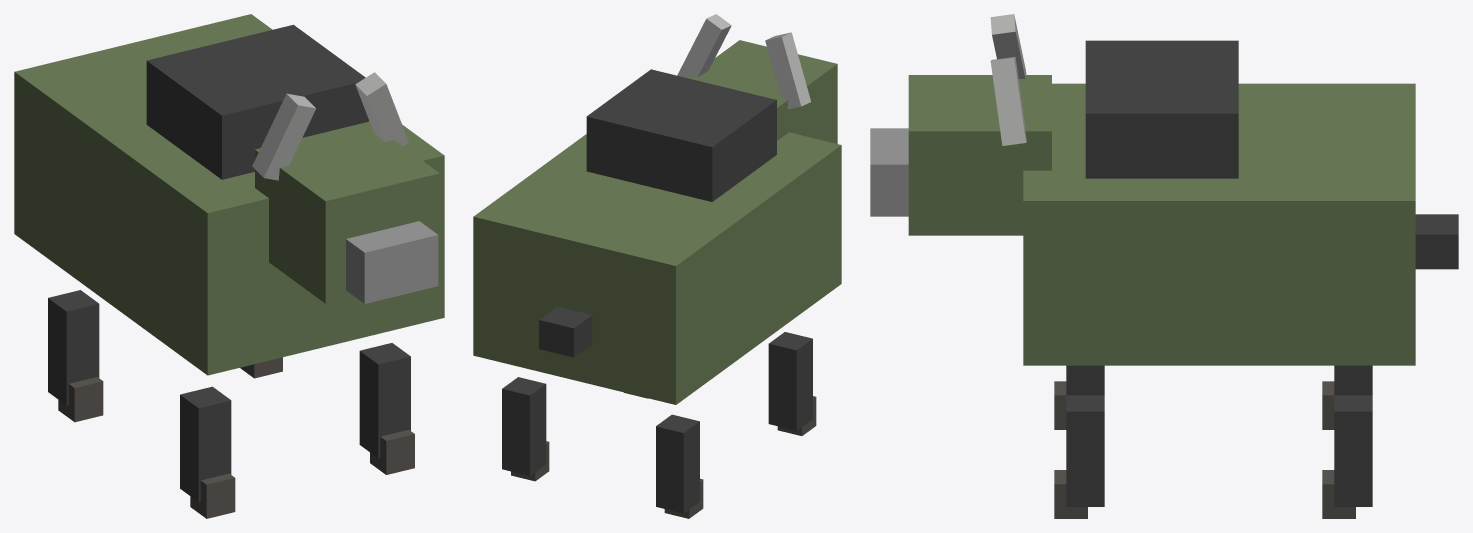
Rendered from ElvinBisonA.glb.
The picture shows the model from 3 angles, left to right: view 1: azimuth 30°, elevation 25°; view 2: azimuth 150°, elevation 25°; view 3: azimuth 270°, elevation 25°; orthographic projection. The views are drawn at different scales.
Parts seen in each view (by area): view 1: ElvinBisonBody; view 2: ElvinBisonBody; view 3: ElvinBisonBody.
Boxes of the visible parts, x1=… form: ElvinBisonBody: x1=14, y1=14, x2=444, y2=518; ElvinBisonBody: x1=473, y1=14, x2=841, y2=518; ElvinBisonBody: x1=870, y1=14, x2=1458, y2=518.
Bounding box in the file's own units: 0.58 × 0.9953 × 1.23.
